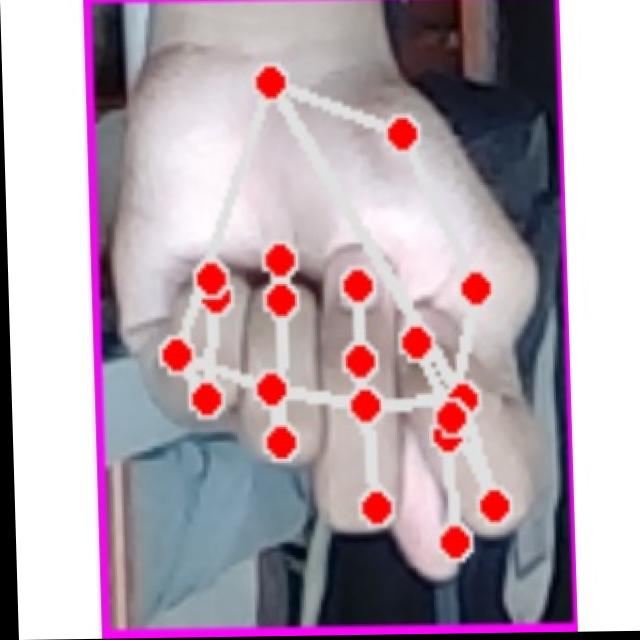T: (103, 47, 553, 593)
